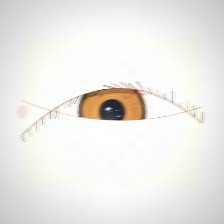hemorrhage_spot: (93, 82, 151, 129)
